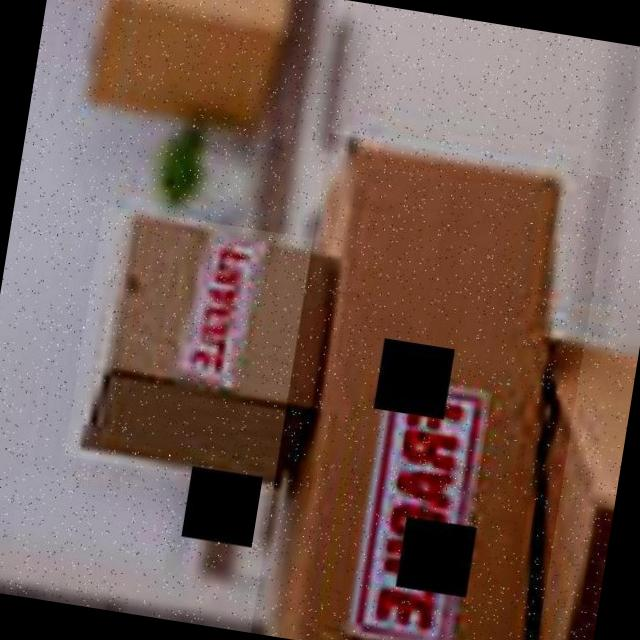box: (250, 133, 611, 640), (64, 206, 348, 496)
